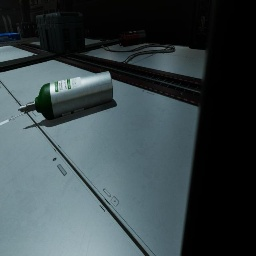0: (18, 71, 113, 120)
NitrogenTank ,: (119, 30, 146, 47), (35, 30, 39, 38)
